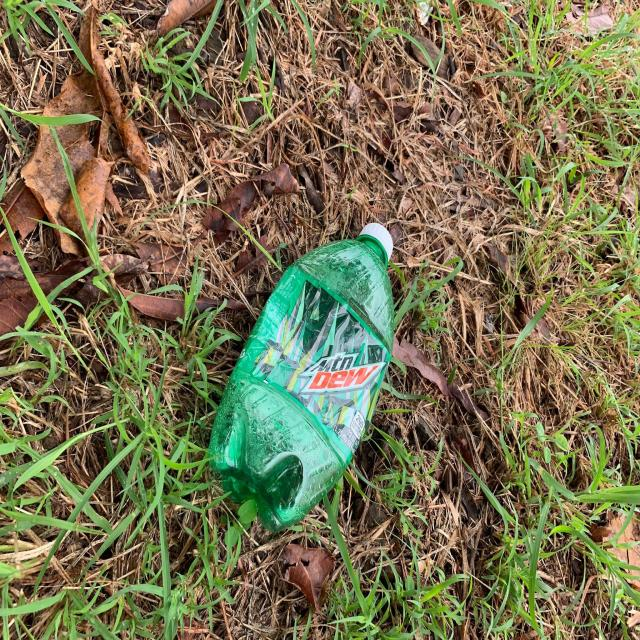litter: (201, 220, 393, 538)
